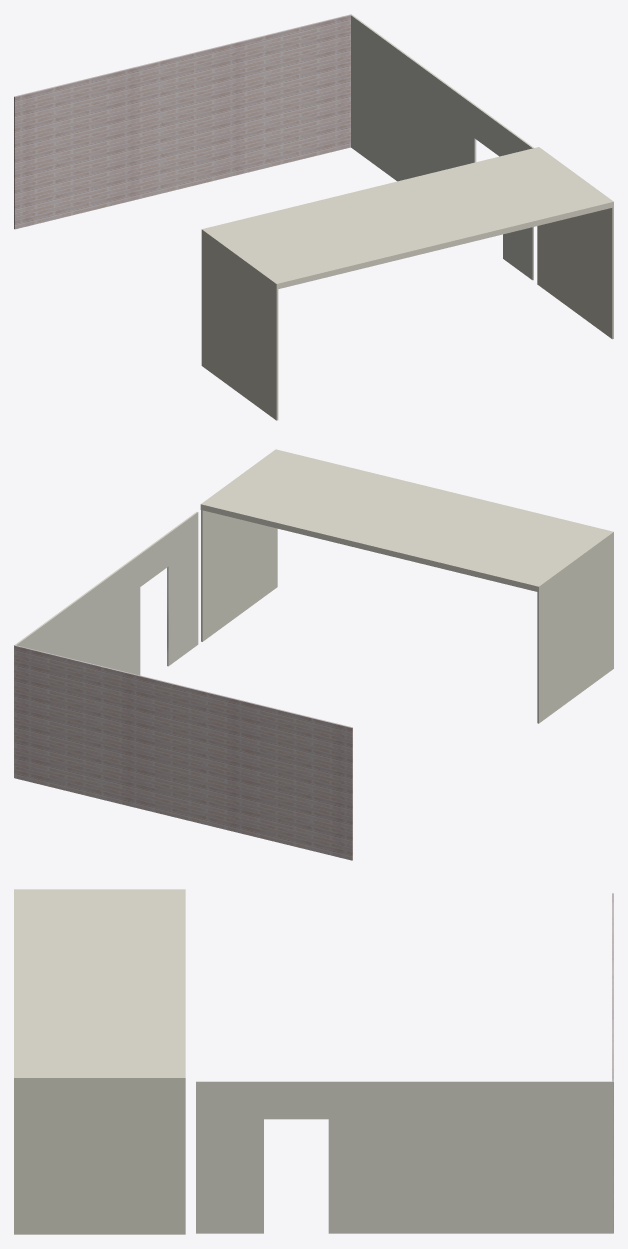
File: liviiiiiiiii.fbx
3 renders of one model, top to bottom at view 1: azimuth 30°, elevation 25°; view 2: azimuth 150°, elevation 25°; view 3: azimuth 270°, elevation 25°, orthographic. The views are drawn at different scales.
Parts seen in each view (by area): view 1: livingroom:livingroom_wall1, polySurface77, livingroom:livingroom_wall4, polySurface78; view 2: livingroom:livingroom_wall1, polySurface77, livingroom:livingroom_wall4, polySurface78; view 3: livingroom:livingroom_wall4, polySurface77, polySurface78, livingroom:livingroom_wall1.
Boxes of the visible parts, x1,y1,x2,y2 form: livingroom:livingroom_wall1: (14,14,351,229); polySurface77: (201,147,613,420); livingroom:livingroom_wall4: (351,14,533,280); polySurface78: (537,207,613,339); livingroom:livingroom_wall1: (14,645,352,860); polySurface77: (200,449,613,723); livingroom:livingroom_wall4: (14,512,198,777); polySurface78: (201,510,277,641); livingroom:livingroom_wall4: (196,1081,613,1233); polySurface77: (14,889,185,1084); polySurface78: (14,1084,185,1234); livingroom:livingroom_wall1: (612,893,613,1232).
Size of the model in its own units: 54.95 by 21.29 by 73.71.
